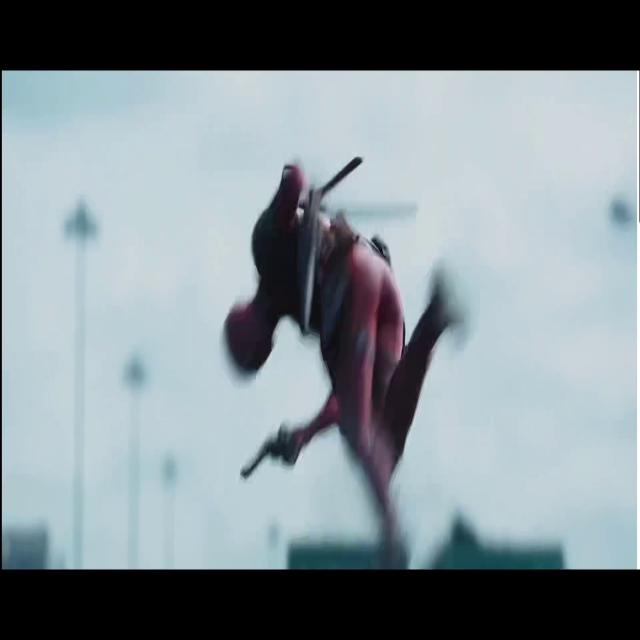weapons: (221, 412, 312, 489)
